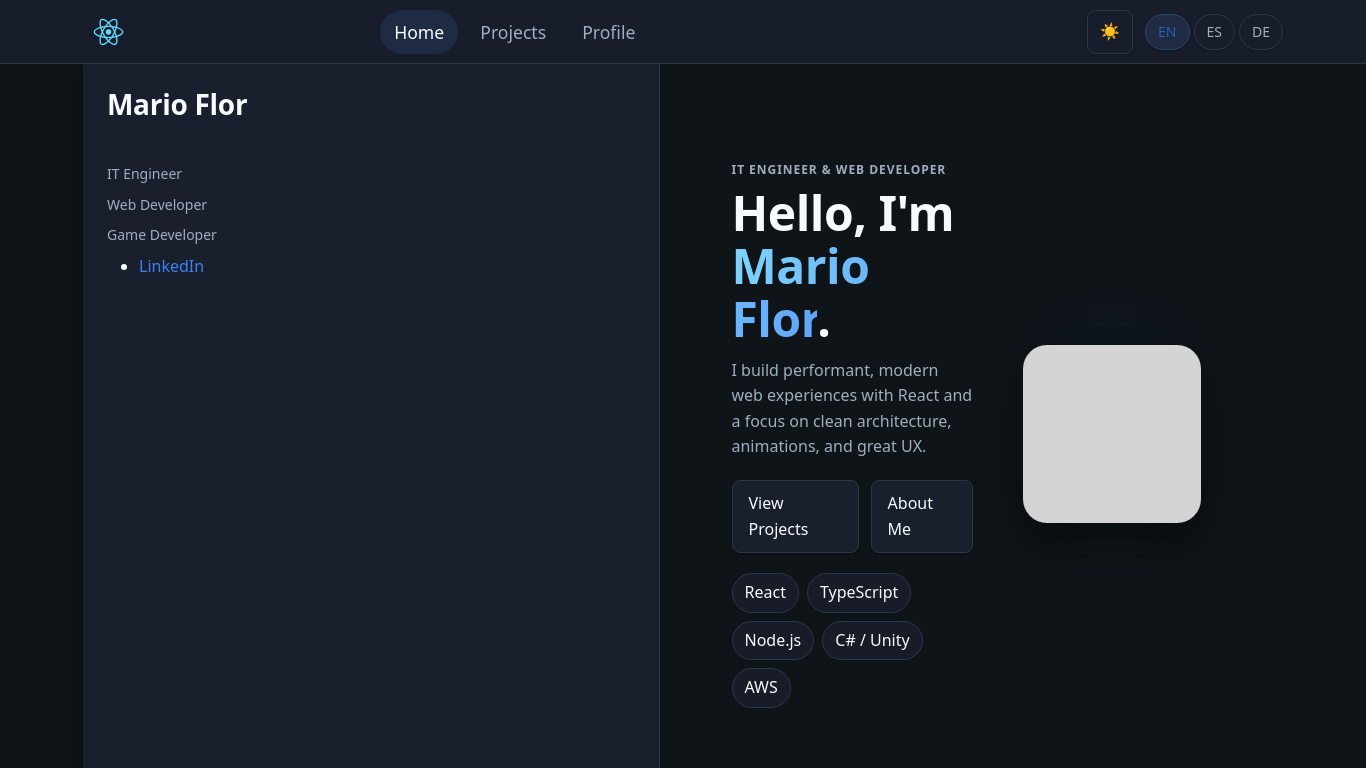
Scenario: theme switcher › defaults to dark and toggles to light, persisting the choice
Click the switch named "Switch to light theme": (1110, 32) [1087,10,1133,54]
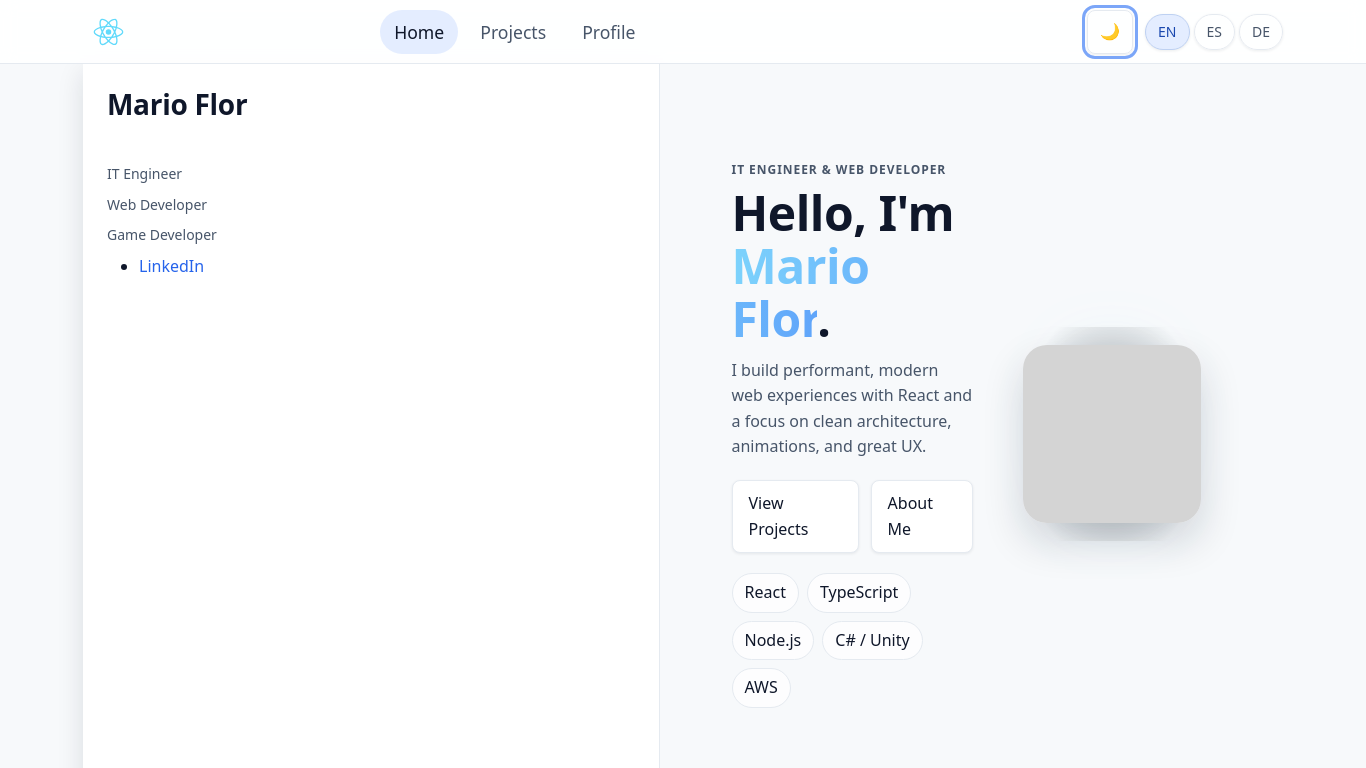
Expected: the switch named "Switch to dark theme" is shown, [1087,10,1133,54]
